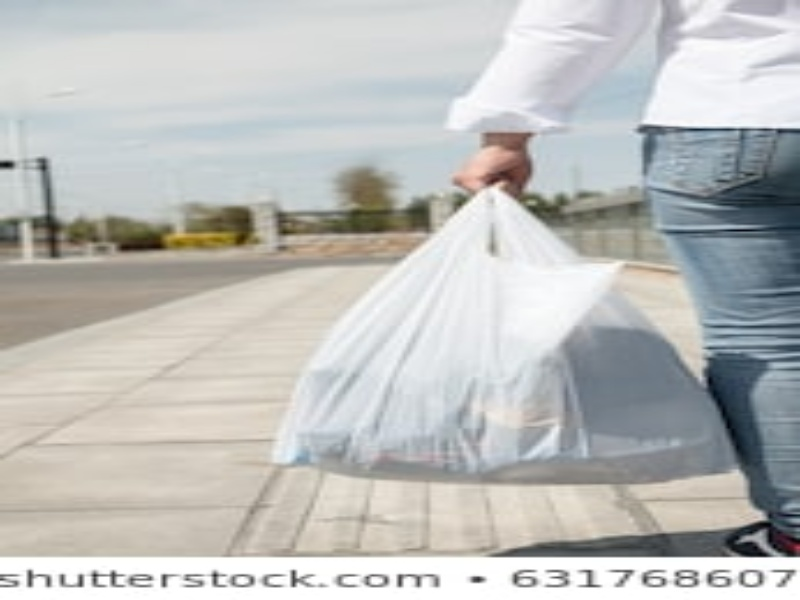plastic-bag: (270, 171, 740, 485)
